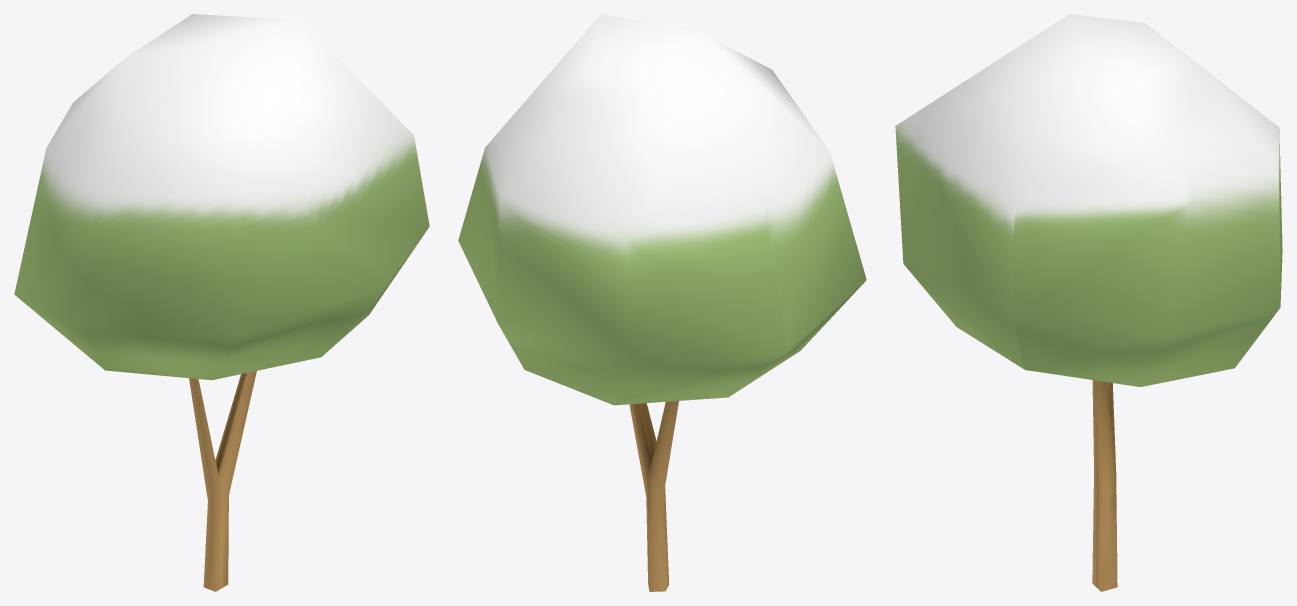
3 views of the same model, side by side, from view 1: azimuth 30°, elevation 25°; view 2: azimuth 150°, elevation 25°; view 3: azimuth 270°, elevation 25° (orthographic). The views are drawn at different scales.
Visible parts, largest first — view 1: wLODPlod; view 2: wLODPlod; view 3: wLODPlod.
Part boxes in pixels (bbox=[...]): wLODPlod: bbox=[14, 14, 429, 591]; wLODPlod: bbox=[458, 14, 866, 591]; wLODPlod: bbox=[895, 14, 1282, 591].
Size of the model in its own units: 12.54 by 19.67 by 12.34.
1 material, 1 textured.
